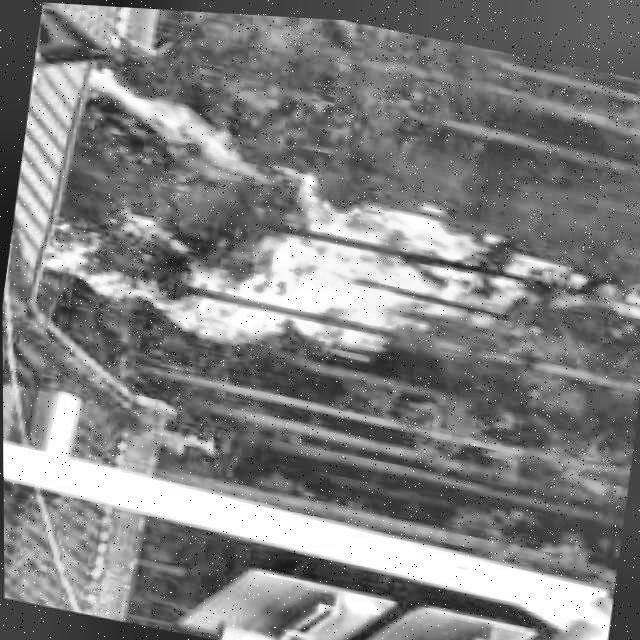Fire: (36, 68, 596, 390)
